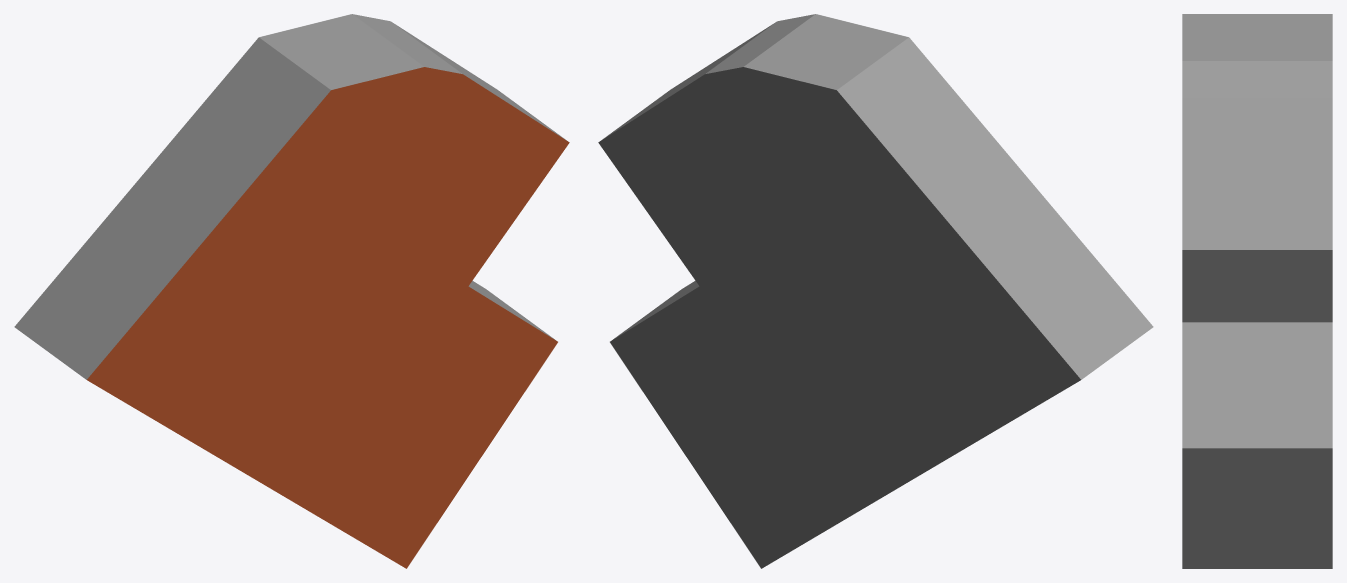
The model's file is construction_2273_assumed_A_Casa_h6m.obj.
3 renders of one model, left to right at view 1: azimuth 30°, elevation 25°; view 2: azimuth 150°, elevation 25°; view 3: azimuth 270°, elevation 25°, orthographic. The views are drawn at different scales.
Parts seen in each view (by area): view 1: construction_2273_assumed_A_Casa; view 2: construction_2273_assumed_A_Casa; view 3: construction_2273_assumed_A_Casa.
Boxes of the visible parts, bbox=[...] form: construction_2273_assumed_A_Casa: bbox=[14, 14, 569, 568]; construction_2273_assumed_A_Casa: bbox=[598, 14, 1153, 568]; construction_2273_assumed_A_Casa: bbox=[1182, 14, 1332, 568].
Bounding box in the file's own units: 23.13 × 22.77 × 6.
